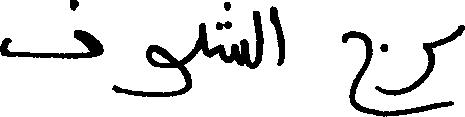X: (0, 0, 101, 63), (115, 40, 189, 101), (378, 37, 433, 116), (345, 26, 372, 116), (220, 0, 245, 70), (272, 1, 283, 70), (254, 6, 261, 73), (454, 20, 464, 44), (201, 18, 206, 60)
